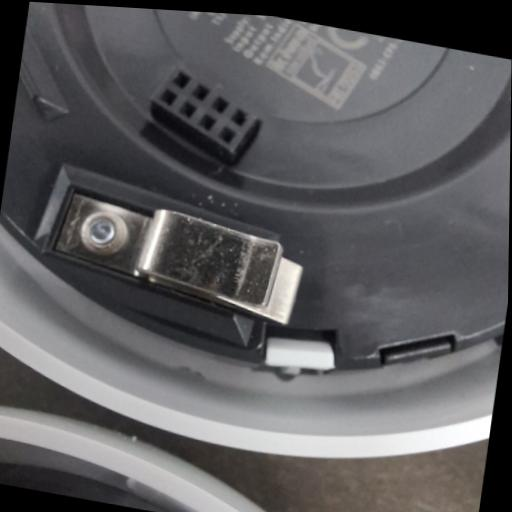yayli: (43, 182, 307, 327)
